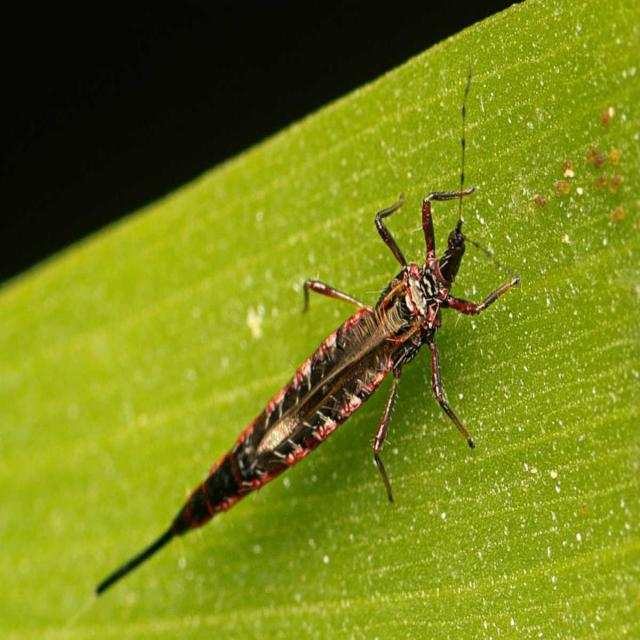Thrip-Adult-: (84, 142, 538, 602)
